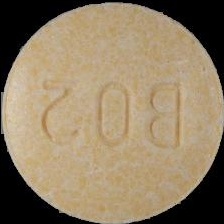60760-064: (0, 0, 224, 224)
